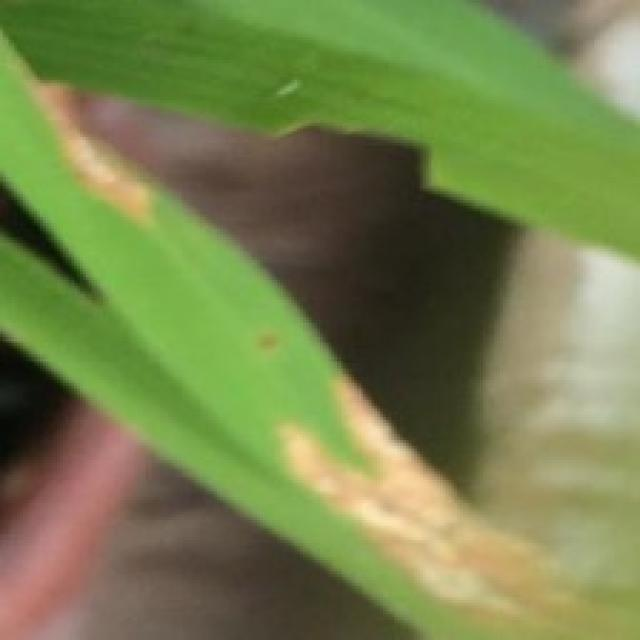Unhealthy: (277, 372, 580, 627), (39, 80, 149, 224), (258, 332, 276, 351)
